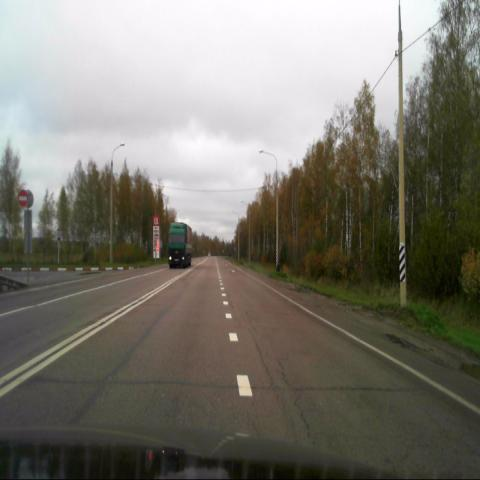3_1: (17, 189, 29, 209)
